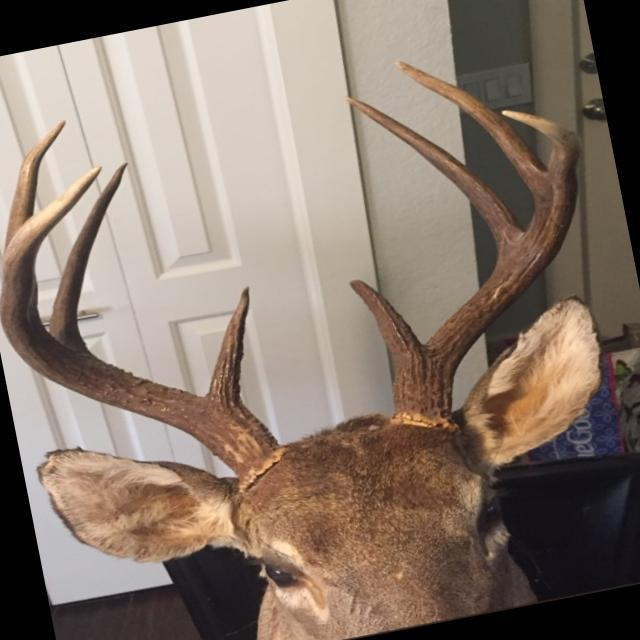L-F: (393, 110, 585, 433)
L-G1: (349, 279, 432, 378)
L-G2: (345, 97, 522, 257), (49, 163, 128, 352)
L-G3: (397, 60, 549, 201)
R-F: (0, 165, 294, 489)
R-G1: (205, 285, 250, 405)
